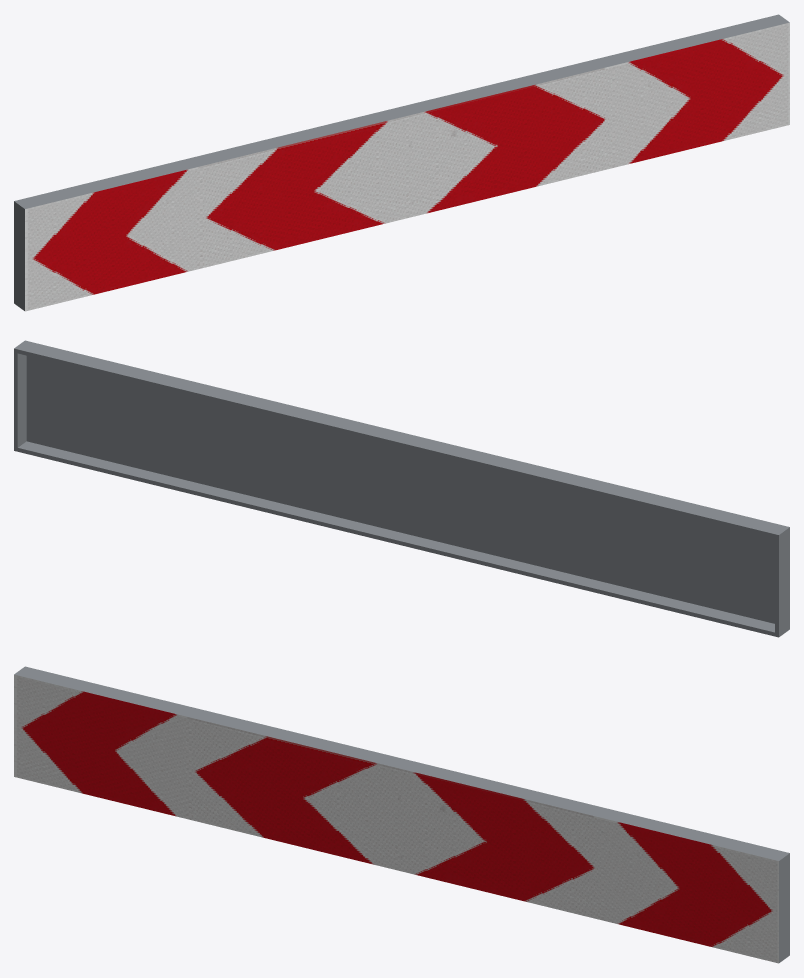
3 renders of one model, top to bottom at view 1: azimuth 30°, elevation 25°; view 2: azimuth 150°, elevation 25°; view 3: azimuth 330°, elevation 25°, orthographic.
Parts seen in each view (by area): view 1: cat_3b909895a1ed232b; view 2: cat_3b909895a1ed232b; view 3: cat_3b909895a1ed232b.
Boxes of the visible parts, box(x1,y1,x2,y2) form: cat_3b909895a1ed232b: box(14, 14, 789, 311); cat_3b909895a1ed232b: box(14, 340, 789, 637); cat_3b909895a1ed232b: box(14, 666, 789, 963).
Bounding box in the file's own units: 0.6 × 0.015 × 0.0767.
Materials: 2 (1 with a texture image).
